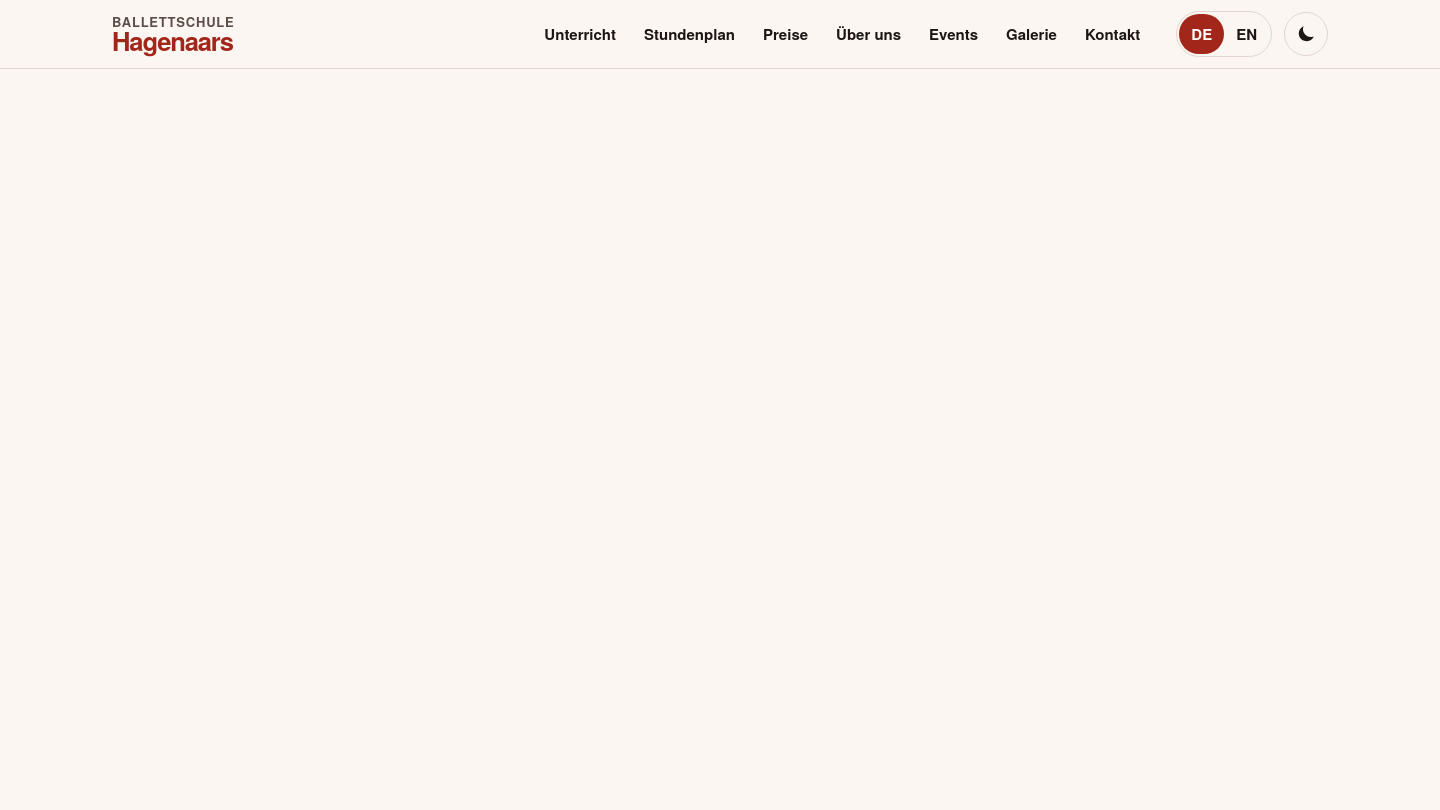
<Header> › toggles dark mode
Click the button named "Dunkles Design aktivieren" at point(1306, 34), box [1284, 12, 1328, 56]
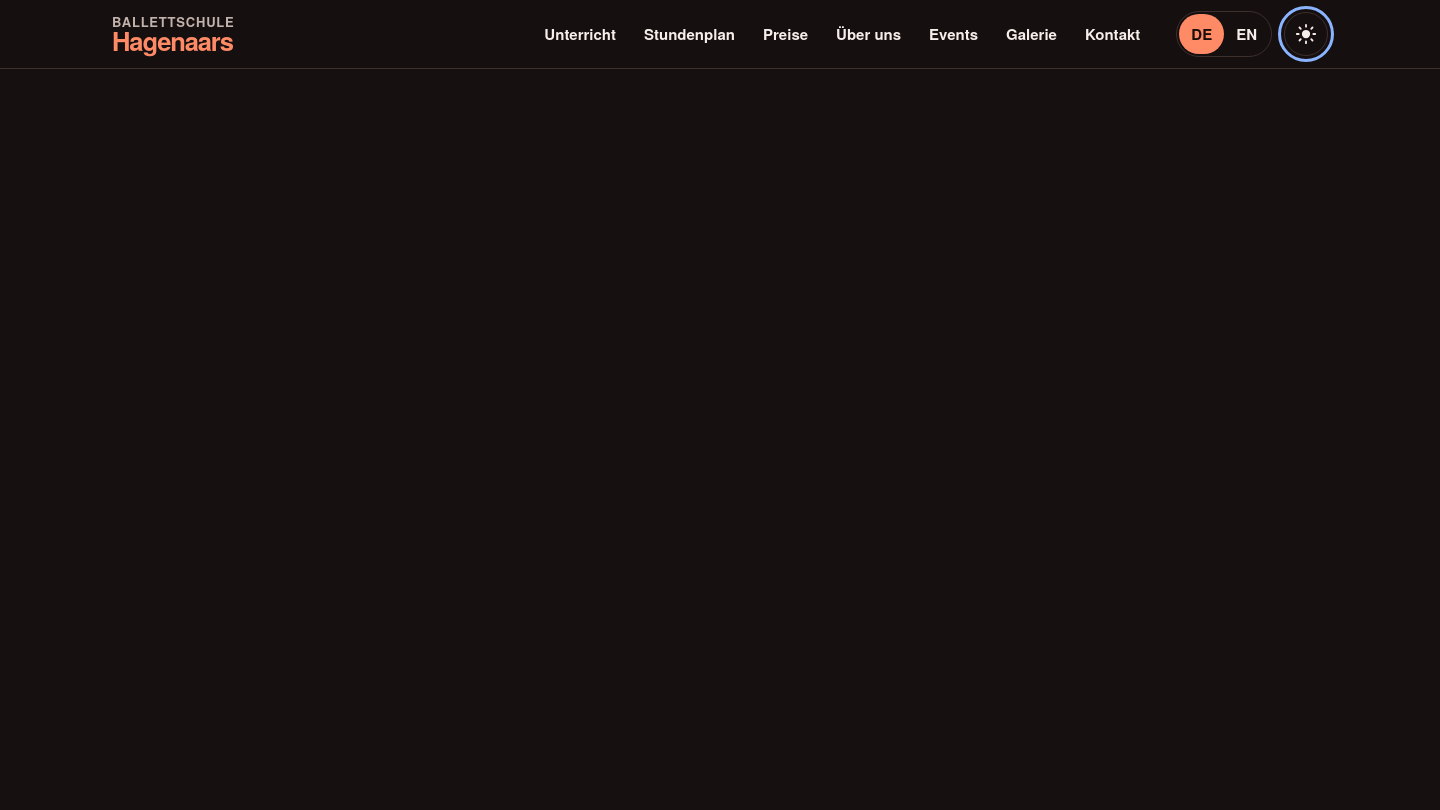
Check: the button named "Helles Design aktivieren" is shown, box [1284, 12, 1328, 56]
